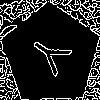Y: (25, 30, 80, 83)
